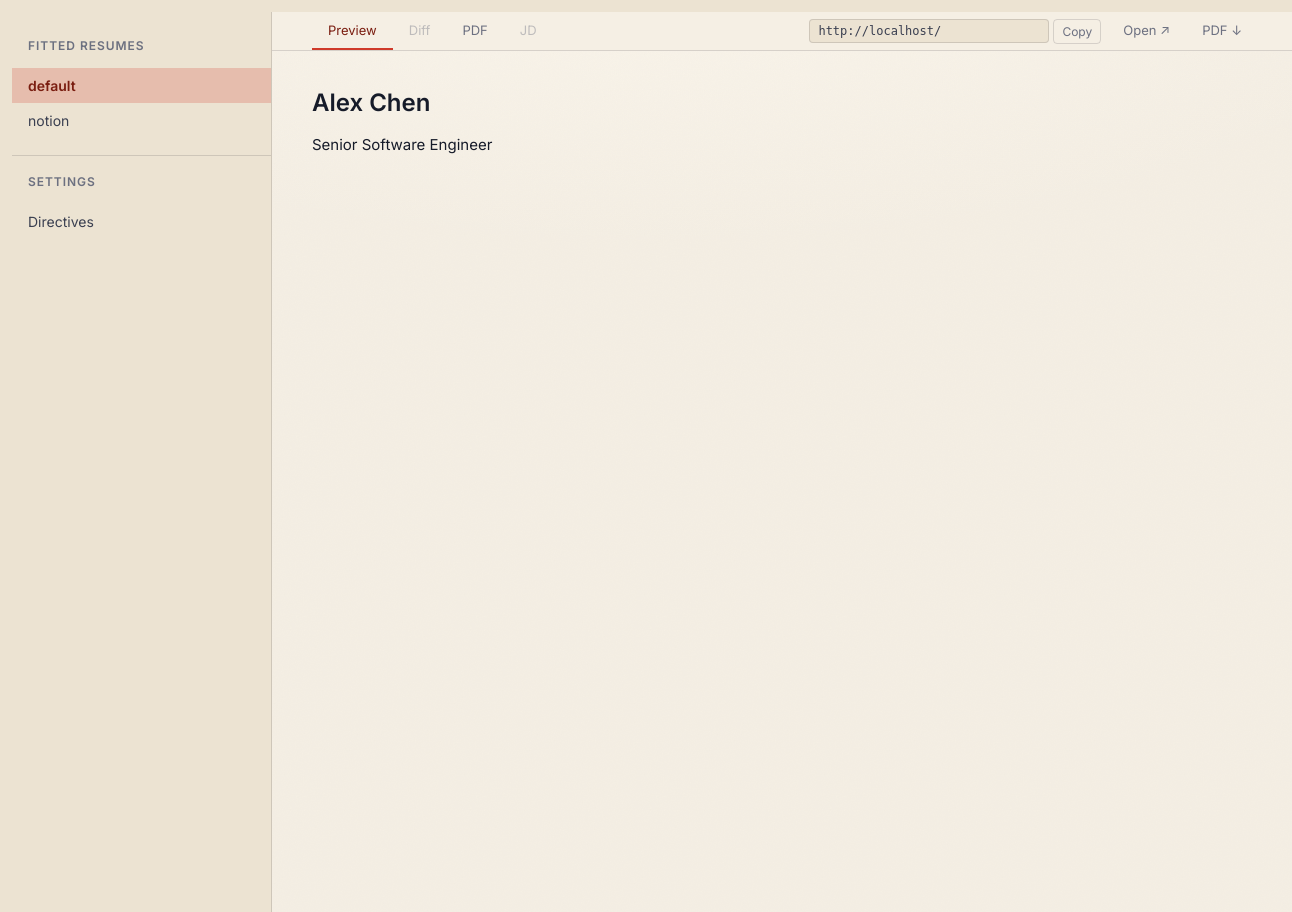
Test: Dashboard › switches between Preview and Diff tabs
Click the button "notion" at (142, 121), box [12,103,271,139]
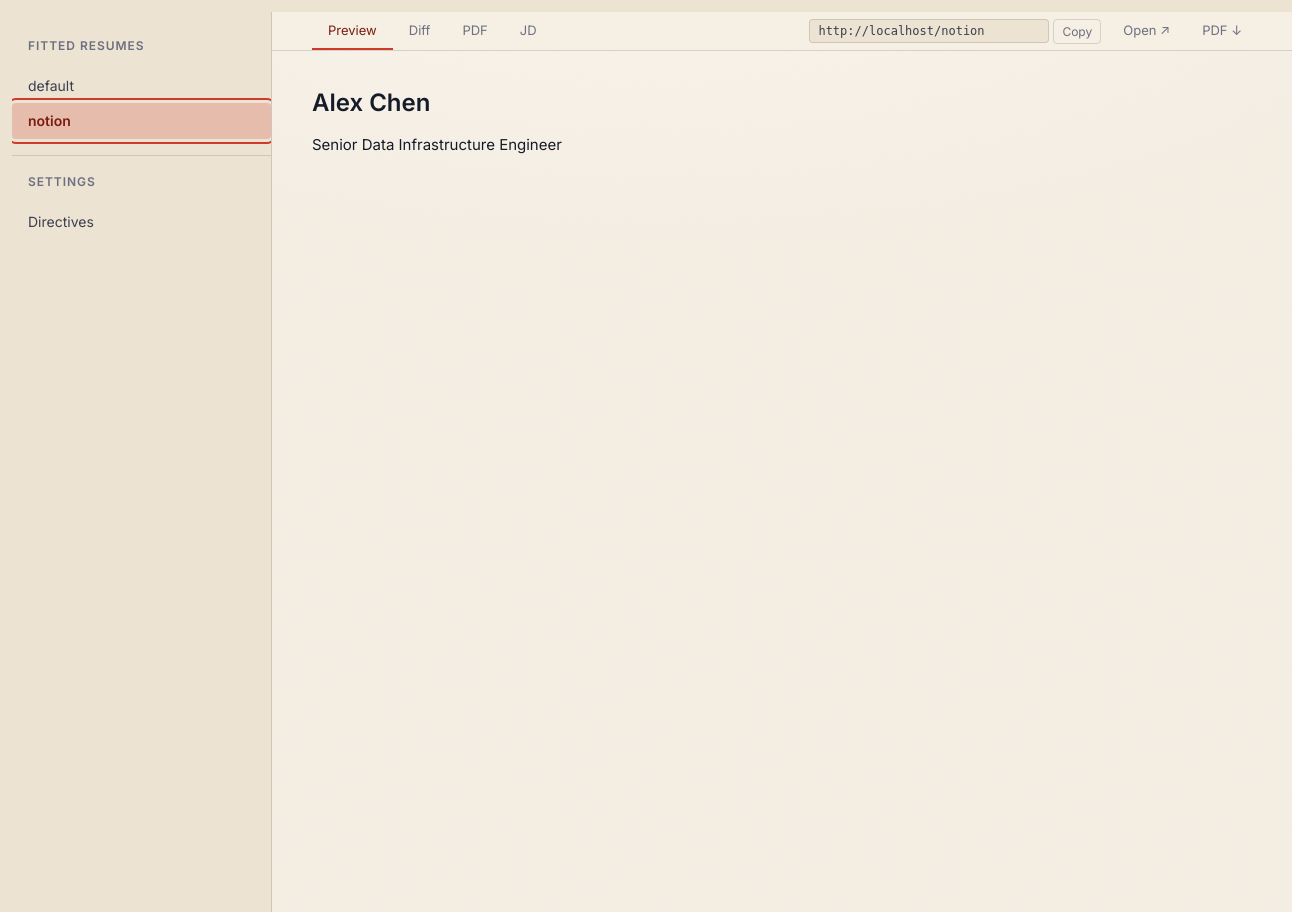
Expected: the text "Senior Data Infrastructure Engineer" is shown, [312,135,562,154]
Click the button "Diff" at (420, 31), box [393,12,446,50]
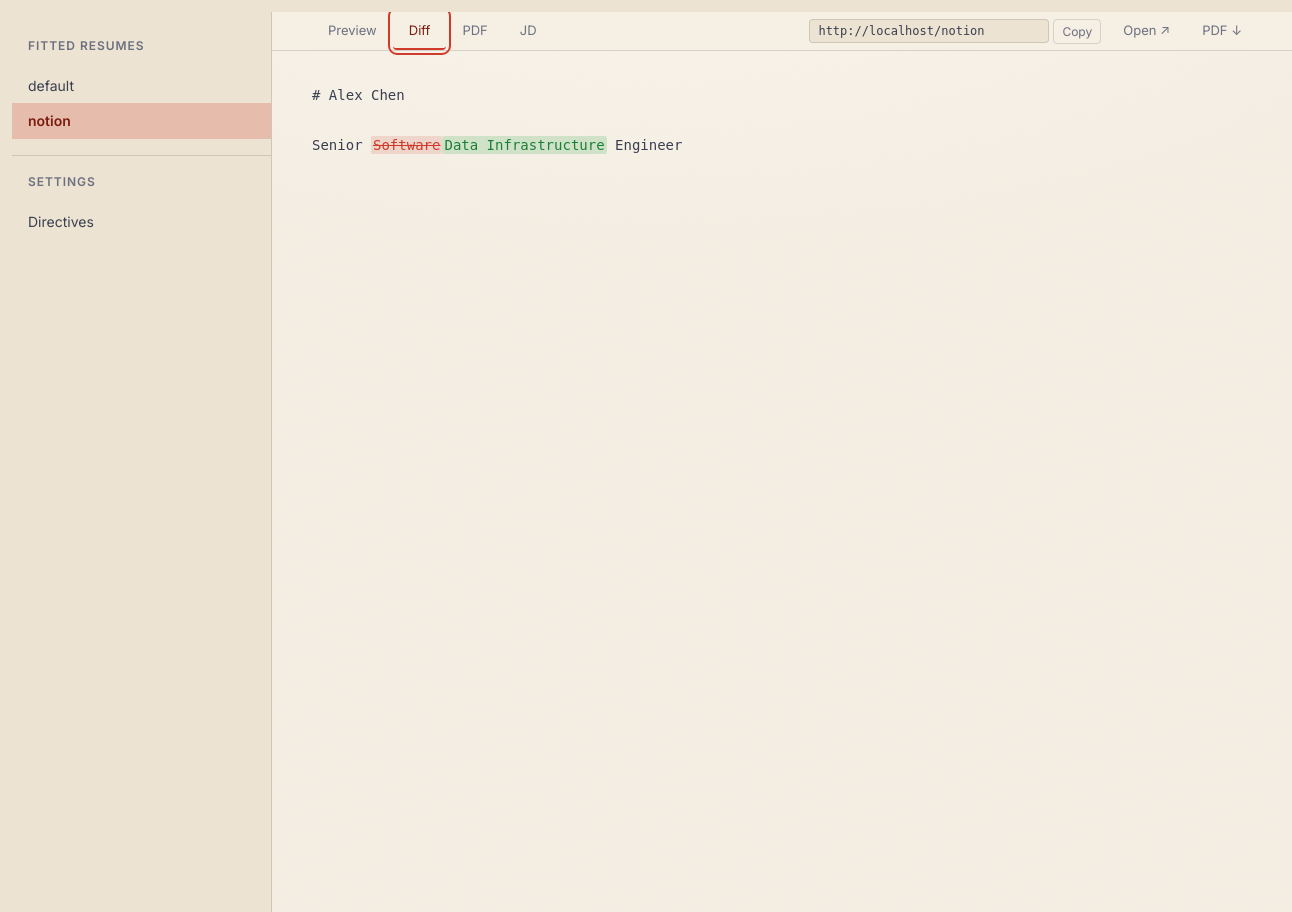
Expected: the element with test id "diff-container" is shown, [312,87,682,154]
